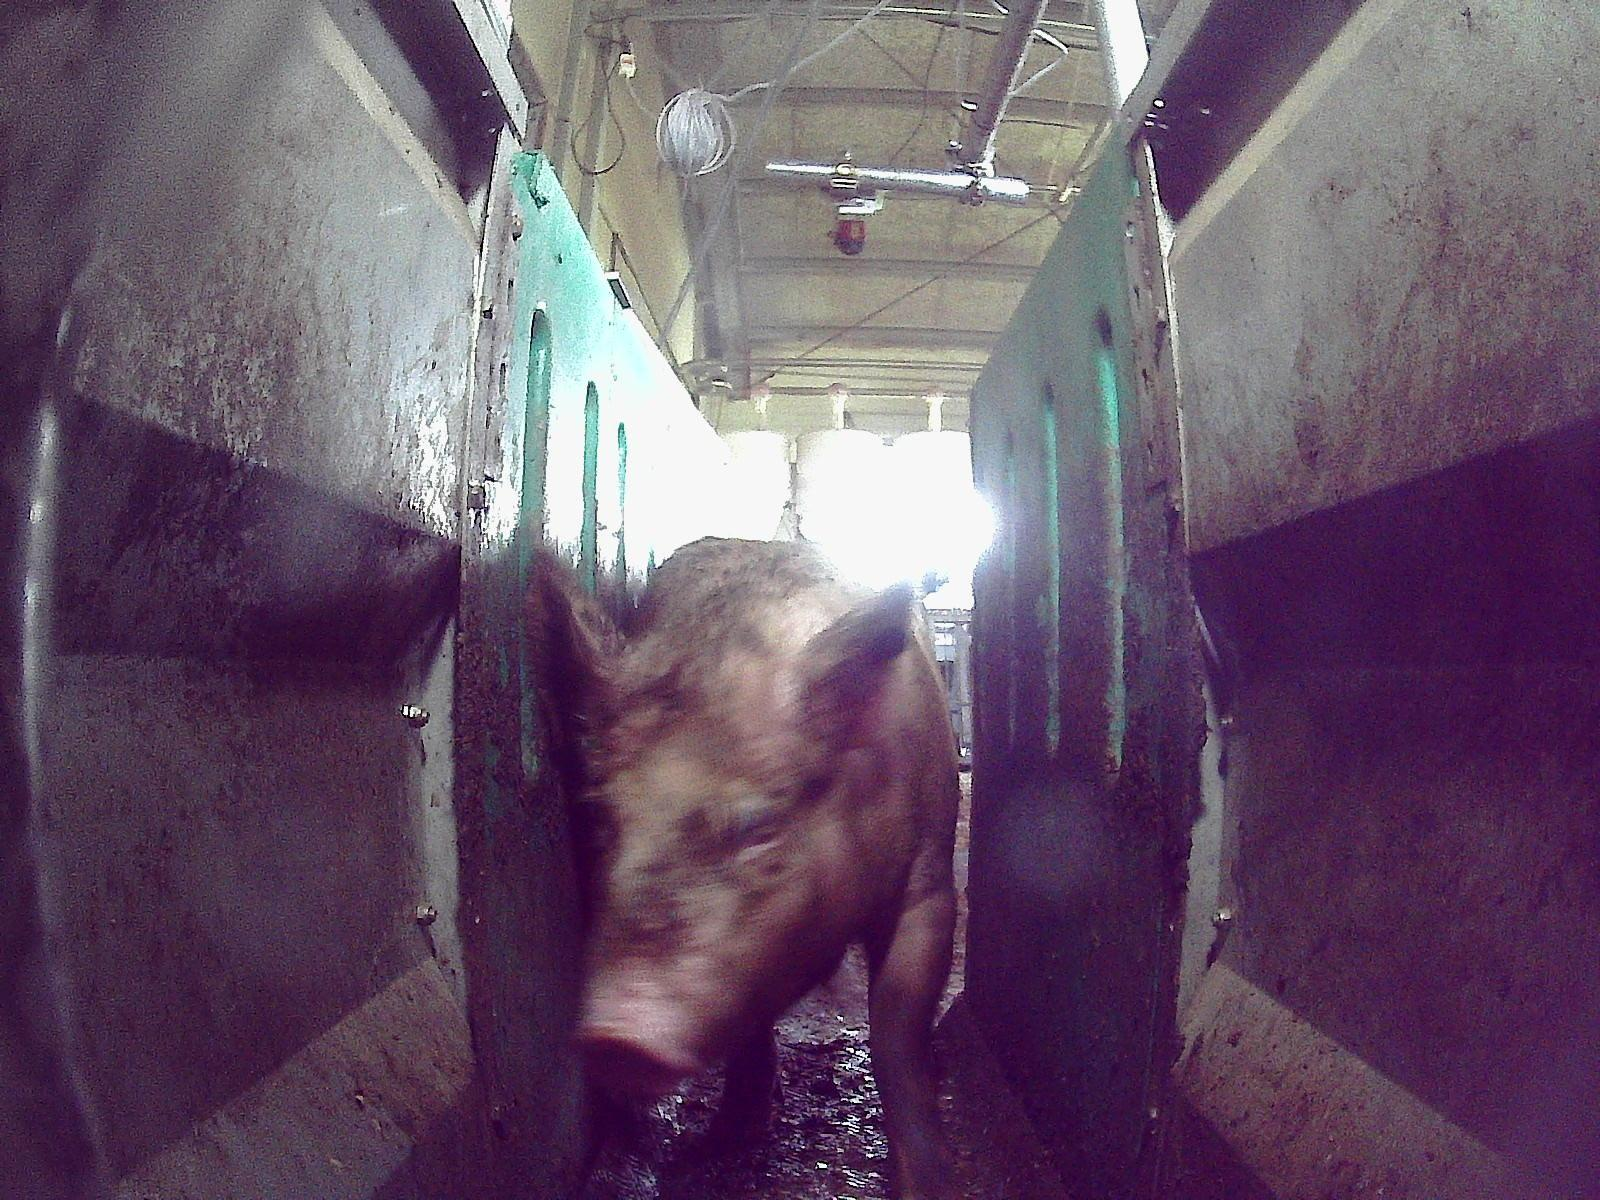Face: (570, 672, 871, 1101)
